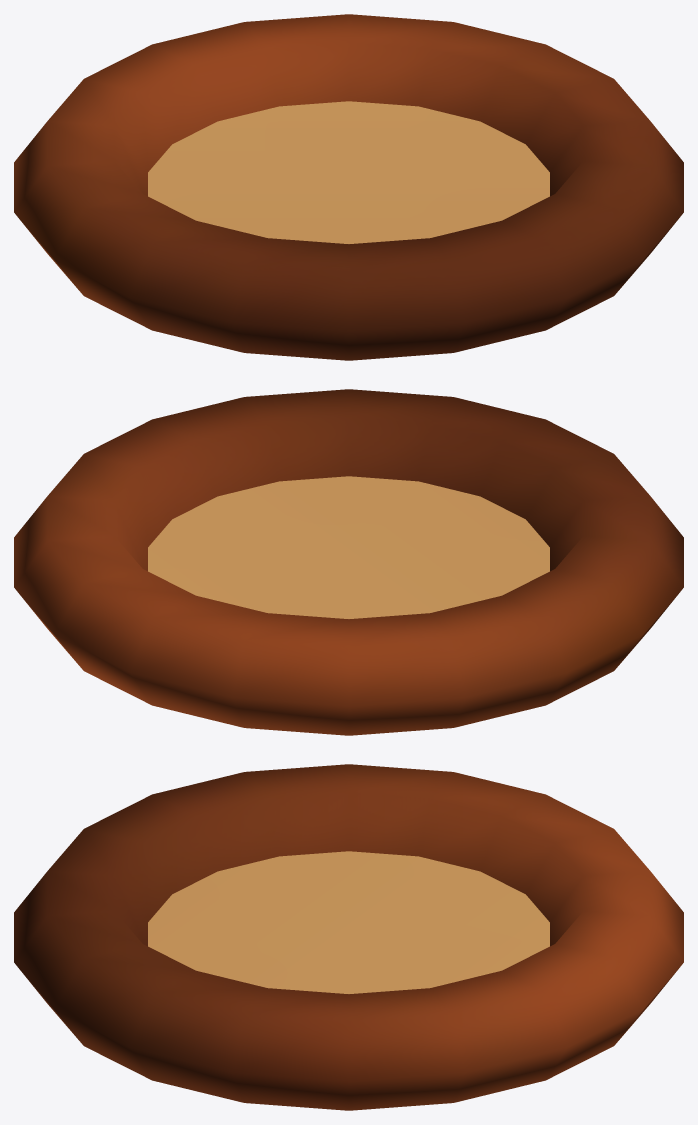
Rendered from Platform_Earth.fbx.
3 views of the same model, one above another, from view 1: azimuth 30°, elevation 25°; view 2: azimuth 150°, elevation 25°; view 3: azimuth 270°, elevation 25° (orthographic).
Parts seen in each view (by area): view 1: Earth_Base; view 2: Earth_Base; view 3: Earth_Base.
Boxes of the visible parts, x1,y1,x2,y2 form: Earth_Base: (14,14,683,360); Earth_Base: (14,389,683,735); Earth_Base: (14,764,683,1110).
Bounding box in the file's own units: 2.71 × 0.3861 × 2.67.
Materials: 1 (1 with a texture image).
